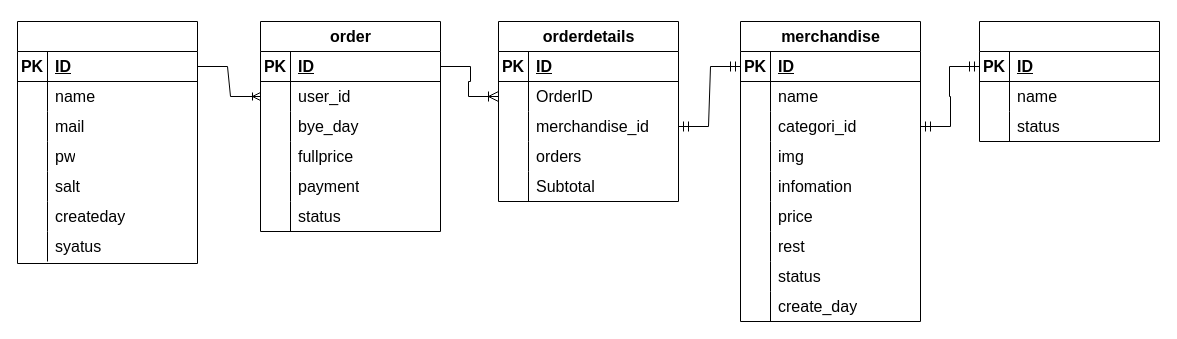
The diagram is 1177 pixels wide and 339 high, and some of its shapes have lost their labels. Each missing label, with the box of its shape:
Category: (978, 20, 1160, 142)
user: (16, 20, 198, 264)
